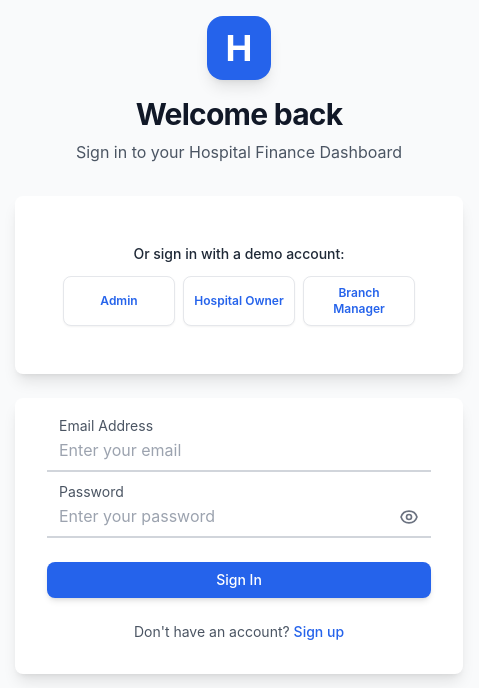
Test case: Authentication Integration › Error Handling › network error shows user-friendly message
Type "test@example.com" into the field labelled "Email Address".
click(239, 451); type("test@example.com")  # box [47,430,431,472]
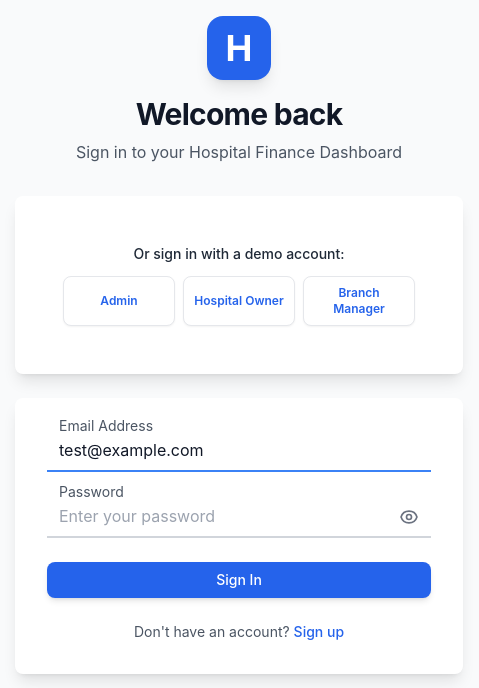
Type "TestPassword123!" into the password field with placeholder "Enter your password".
click(239, 517); type("TestPassword123!")  # box [47,496,431,538]
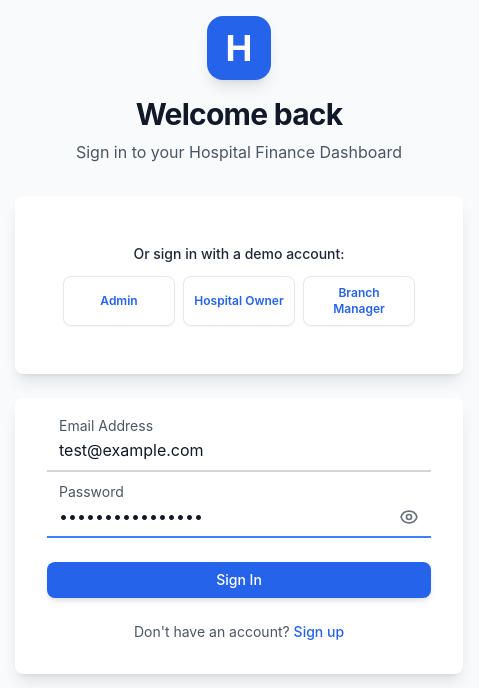
Click the button "Sign In".
click(239, 580)  # box [47,562,431,598]
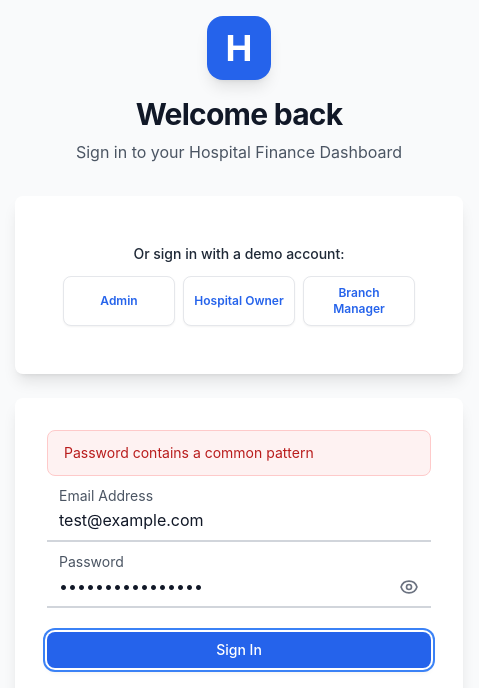
Expected: the text "Password contains a common pattern" is shown, [47,430,431,476]
